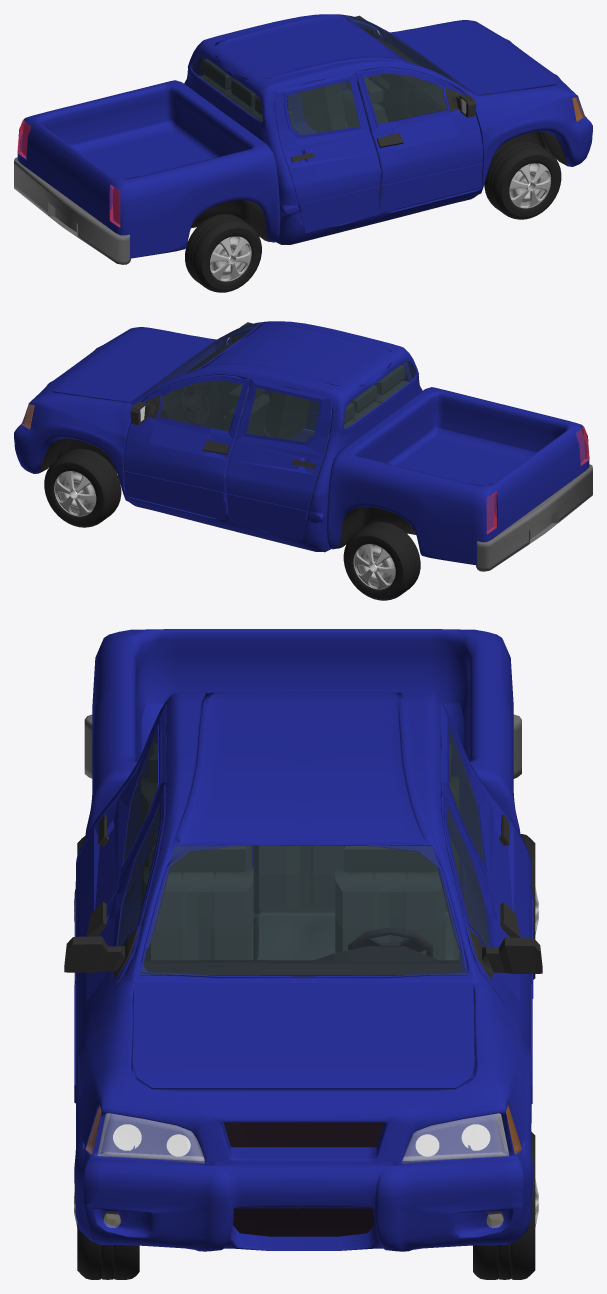
Rendered from pickup_generic_doublecab.glb.
3 views of the same model, one above another, from view 1: azimuth 30°, elevation 25°; view 2: azimuth 150°, elevation 25°; view 3: azimuth 270°, elevation 25° (orthographic). The views are drawn at different scales.
Visible parts, largest first — view 1: Object_2, Object_11, Object_13, Object_20, Object_14, Object_4, Object_19, Object_3, Object_12, Object_5; view 2: Object_2, Object_11, Object_13, Object_20, Object_14, Object_4, Object_3, Object_19, Object_12, Object_21, Object_5; view 3: Object_2, Object_11, Object_20, Object_16, Object_7, Object_19, Object_12, Object_13, Object_10, Object_21, Object_14.
Boxes of the visible parts, box(x1,y1,x2,y2) form: Object_2: box(17, 14, 592, 258); Object_11: box(191, 15, 468, 135); Object_13: box(185, 140, 561, 292); Object_20: box(199, 59, 387, 177); Object_14: box(14, 157, 130, 264); Object_4: box(210, 163, 551, 281); Object_19: box(369, 38, 447, 121); Object_3: box(191, 131, 567, 244); Object_12: box(291, 15, 476, 162); Object_5: box(17, 120, 120, 227); Object_2: box(14, 321, 589, 565); Object_11: box(138, 322, 415, 441); Object_13: box(44, 448, 420, 600); Object_20: box(222, 364, 408, 507); Object_14: box(476, 464, 592, 571); Object_4: box(54, 471, 395, 589); Object_3: box(39, 438, 415, 552); Object_19: box(160, 344, 239, 429); Object_12: box(130, 322, 315, 468); Object_21: box(180, 384, 209, 425); Object_5: box(486, 427, 589, 534); Object_2: box(74, 629, 533, 1251); Object_11: box(117, 725, 489, 974); Object_20: box(141, 743, 459, 960); Object_16: box(224, 1122, 383, 1236); Object_7: box(97, 1113, 509, 1163); Object_19: box(143, 946, 460, 976); Object_12: box(64, 814, 542, 980); Object_13: box(77, 834, 535, 1279); Object_10: box(113, 1124, 490, 1156); Object_21: box(348, 927, 432, 957); Object_14: box(84, 714, 521, 778).
Size of the model in its own units: 5.3 by 1.84 by 2.26.
